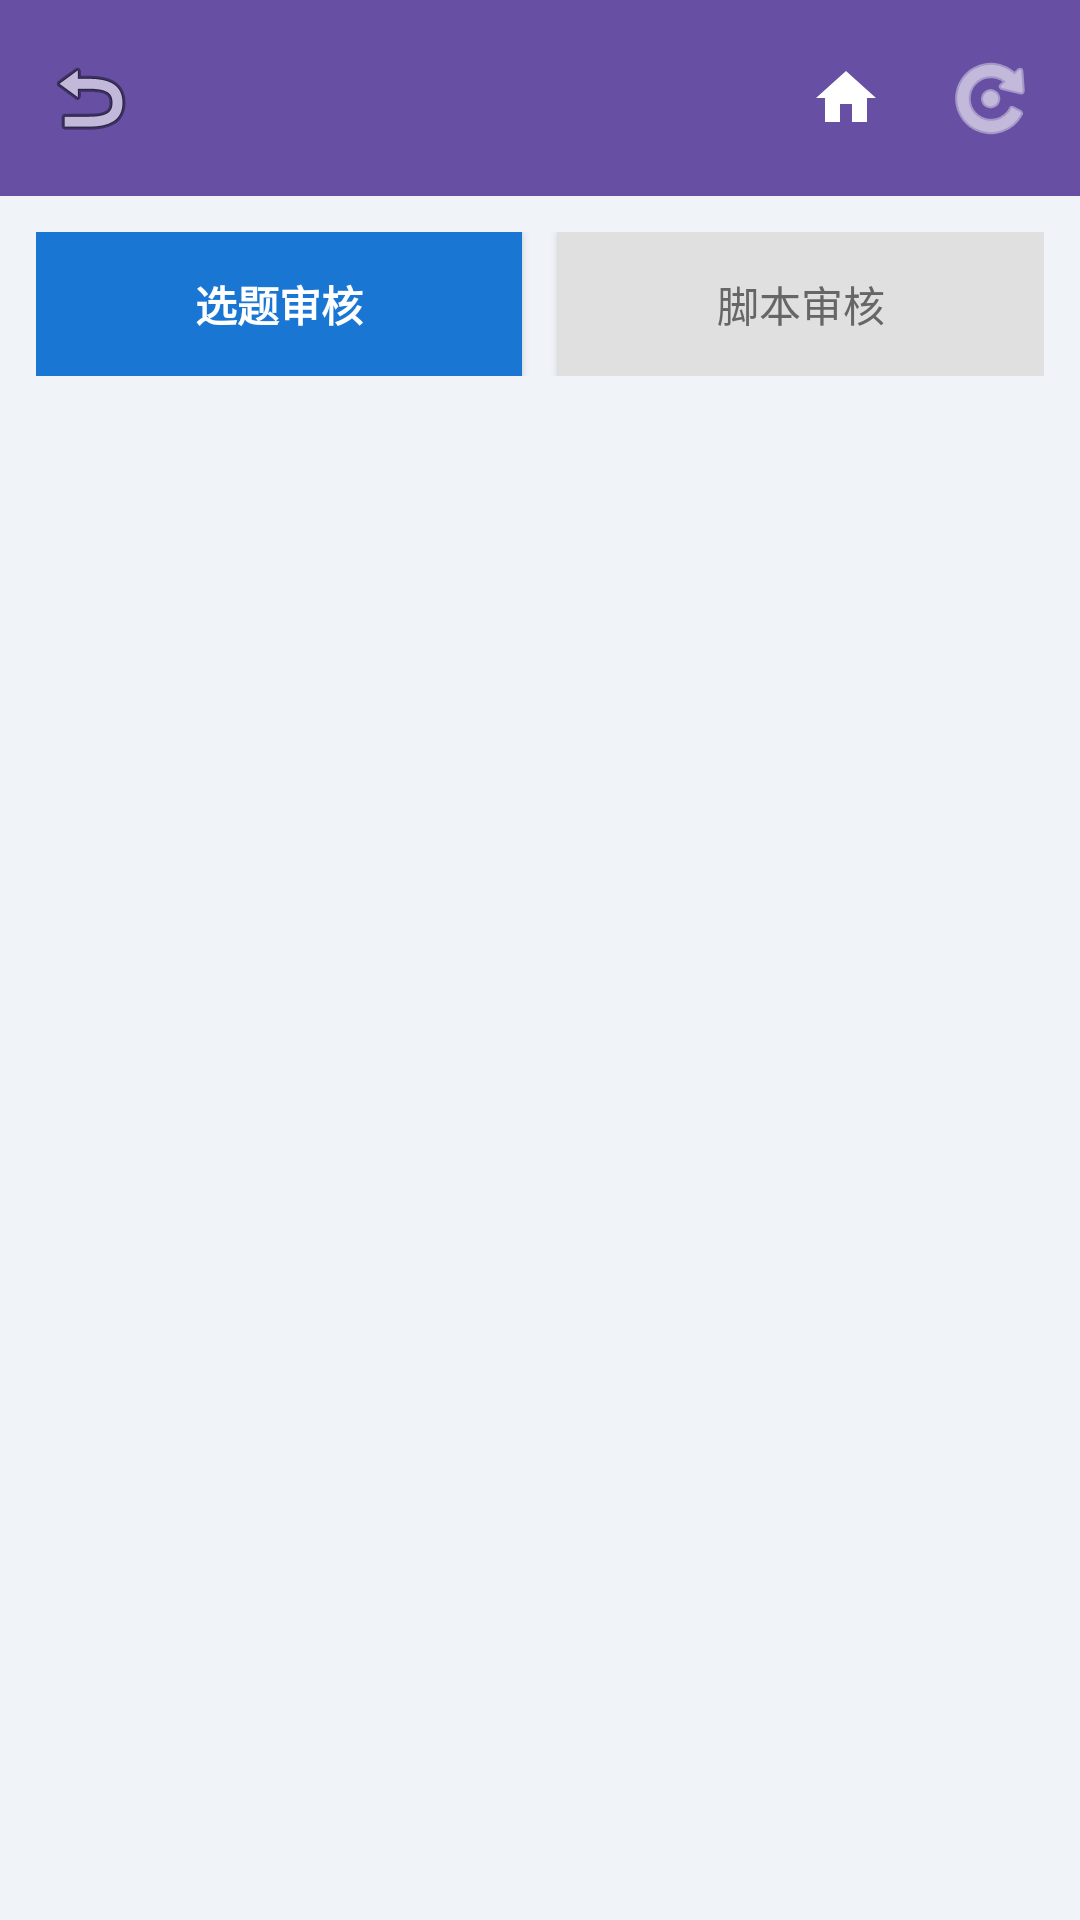

Icons on this 1080 × 1920 Android screen, each with the point to tap as (x=x, y=y):
主页面: (x=846, y=96)
刷新: (x=990, y=98)
返回: (x=91, y=98)
